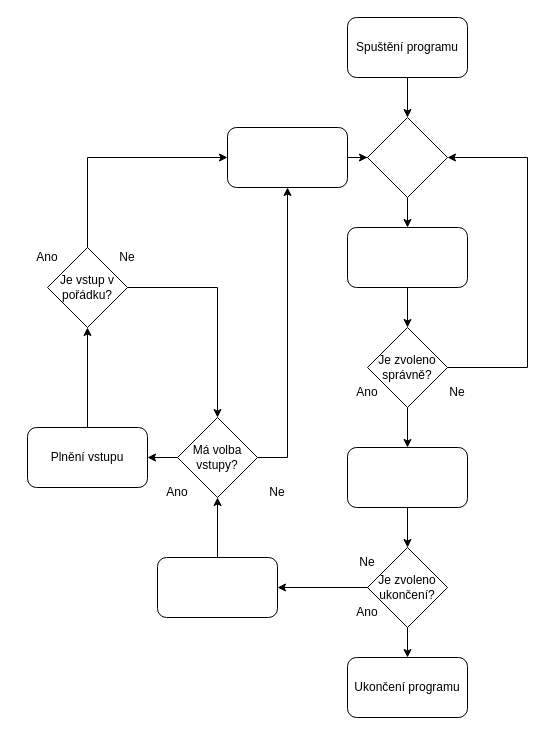
The diagram is 553 pixels wide and 735 high, and some of its shapes have lost their labels. The centre of each missing label's shape, as x and y in pixels:
"Daná volba je v pořádku dokončena" belongs at pixel 287 157.
"Volba" belongs at pixel 217 587.
"Zvol si z nabídky" belongs at pixel 407 257.
"Zvolená volba" belongs at pixel 407 477.
